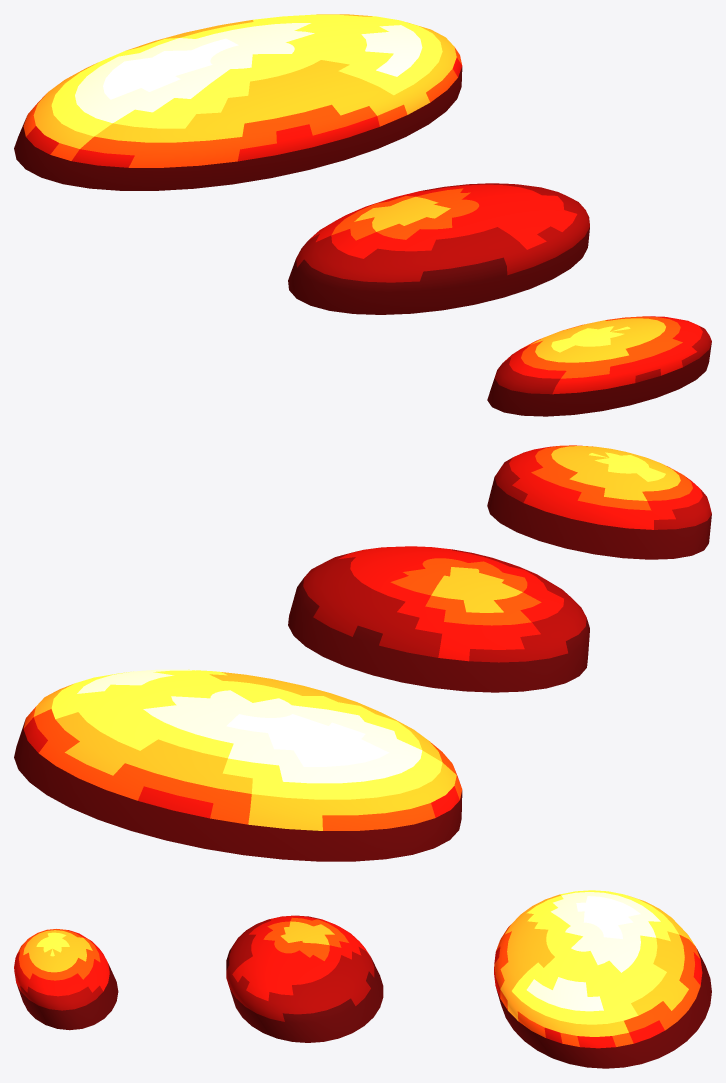
File: ixm_boss_lamps_283.glb
3 views of the same model, one above another, from view 1: azimuth 30°, elevation 25°; view 2: azimuth 150°, elevation 25°; view 3: azimuth 270°, elevation 25° (orthographic). The views are drawn at different scales.
Parts seen in each view (by area): view 1: ixm_boss_lamps_283_0, ixm_boss_lamps_283_1, ixm_boss_lamps_283_2; view 2: ixm_boss_lamps_283_0, ixm_boss_lamps_283_1, ixm_boss_lamps_283_2; view 3: ixm_boss_lamps_283_0, ixm_boss_lamps_283_1, ixm_boss_lamps_283_2.
Boxes of the visible parts, x1,y1,x2,y2 form: ixm_boss_lamps_283_0: [14, 14, 462, 190]; ixm_boss_lamps_283_1: [288, 183, 589, 314]; ixm_boss_lamps_283_2: [487, 316, 711, 416]; ixm_boss_lamps_283_0: [14, 669, 462, 861]; ixm_boss_lamps_283_1: [288, 546, 589, 692]; ixm_boss_lamps_283_2: [487, 445, 711, 559]; ixm_boss_lamps_283_0: [494, 890, 711, 1068]; ixm_boss_lamps_283_1: [226, 915, 383, 1042]; ixm_boss_lamps_283_2: [14, 929, 118, 1030].
Size of the model in its own units: 12.24 by 2.05 by 23.44.
